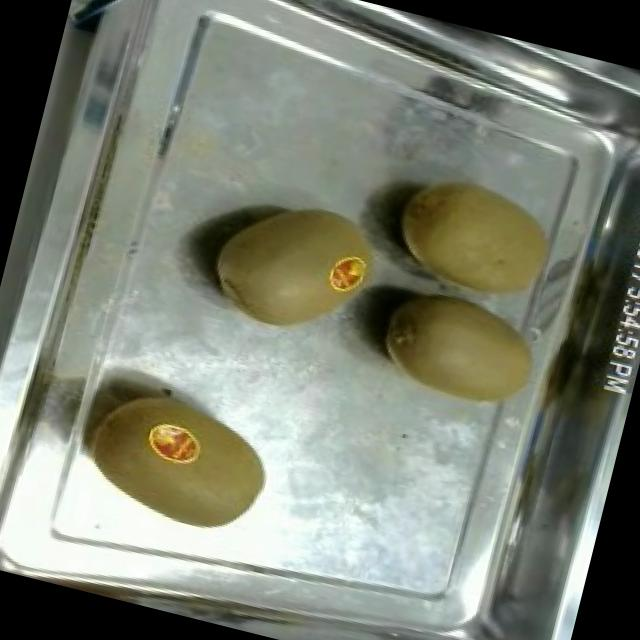Fruit: (66, 368, 286, 552), (190, 177, 387, 357), (368, 153, 568, 324), (360, 269, 560, 430)
